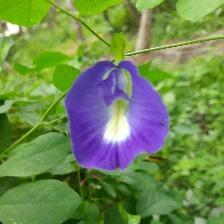shankupushpam: (64, 60, 172, 174)
